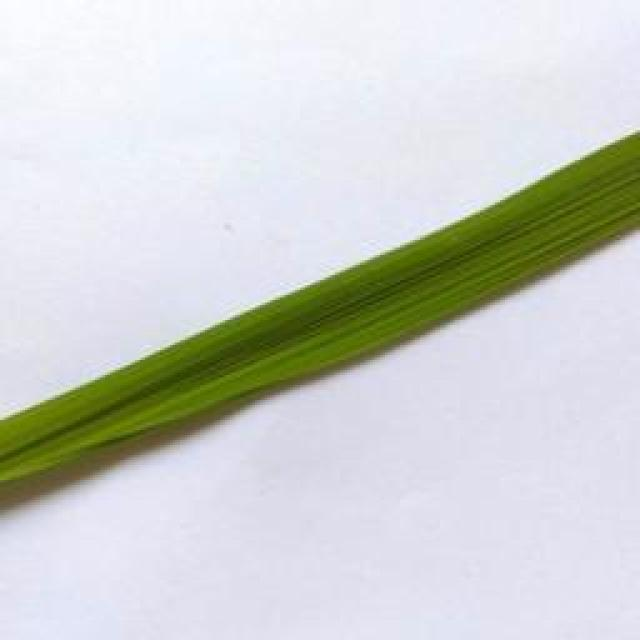Healthy-Plant: (0, 129, 640, 488)
